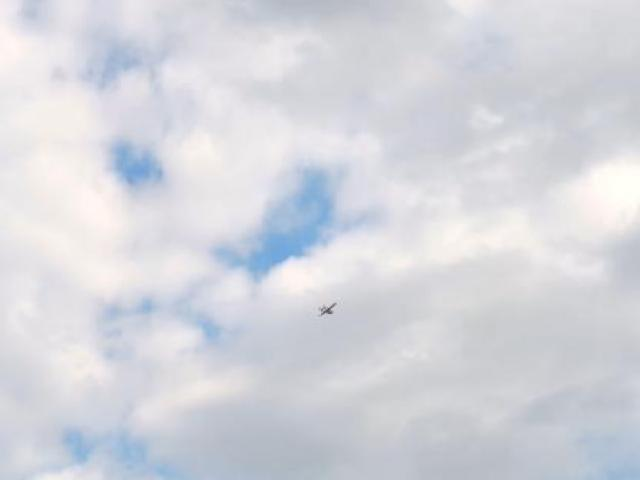uav: (316, 299, 339, 317)
